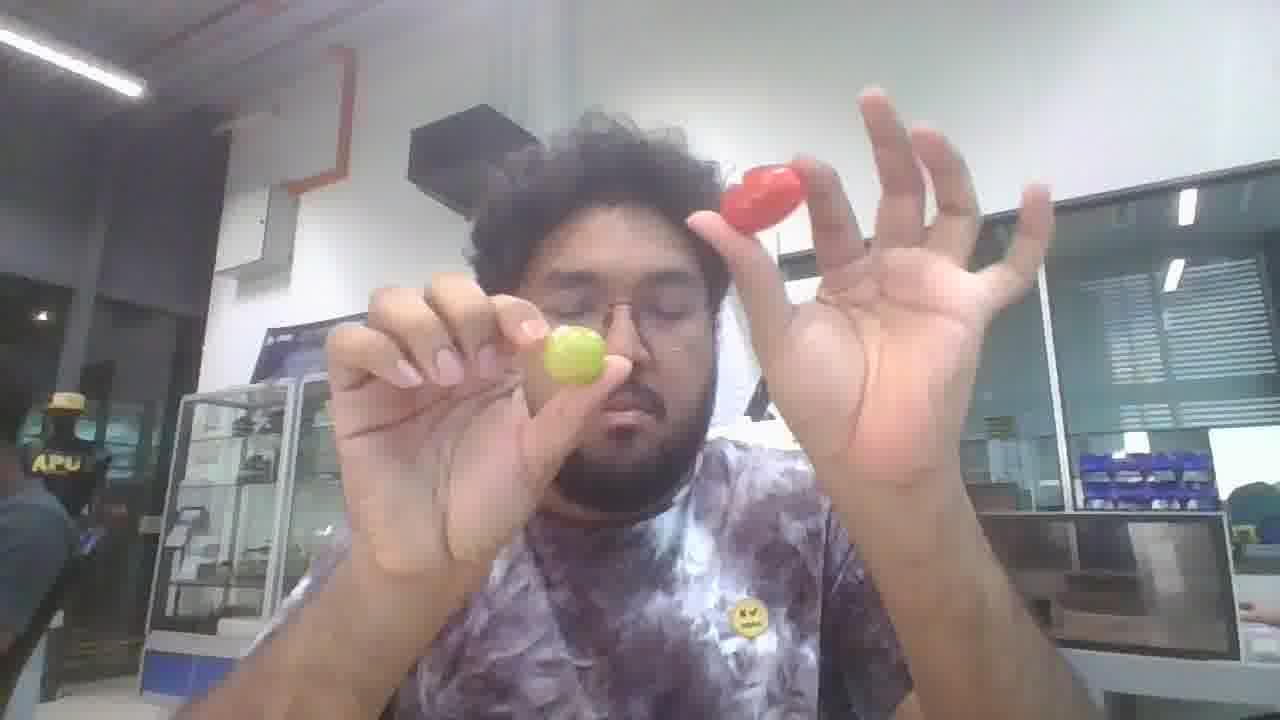green_cherry_tomato: (543, 325, 605, 384)
red_cherry_tomato: (720, 164, 806, 234)
